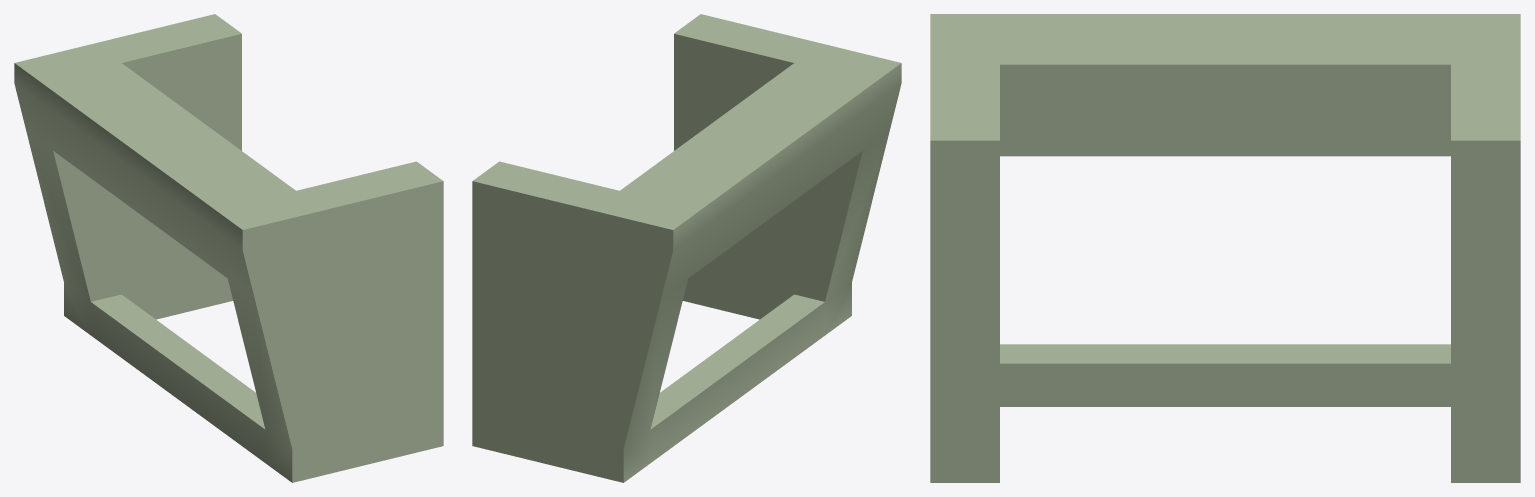
The model's file is Fireplace_01_Collider.fbx.
The picture shows the model from 3 angles, left to right: view 1: azimuth 30°, elevation 25°; view 2: azimuth 150°, elevation 25°; view 3: azimuth 270°, elevation 25°; orthographic projection. The views are drawn at different scales.
Parts seen in each view (by area): view 1: Fireplace_01_Collider; view 2: Fireplace_01_Collider; view 3: Fireplace_01_Collider.
Boxes of the visible parts, x1=… form: Fireplace_01_Collider: x1=14, y1=14, x2=443, y2=482; Fireplace_01_Collider: x1=472, y1=14, x2=901, y2=482; Fireplace_01_Collider: x1=930, y1=14, x2=1520, y2=482.
Bounding box in the file's own units: 184 × 232 × 363.
